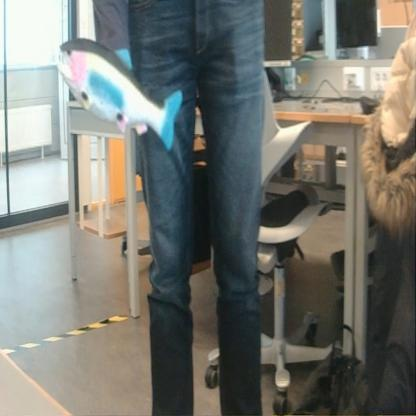rubberfish: (52, 34, 184, 153)
